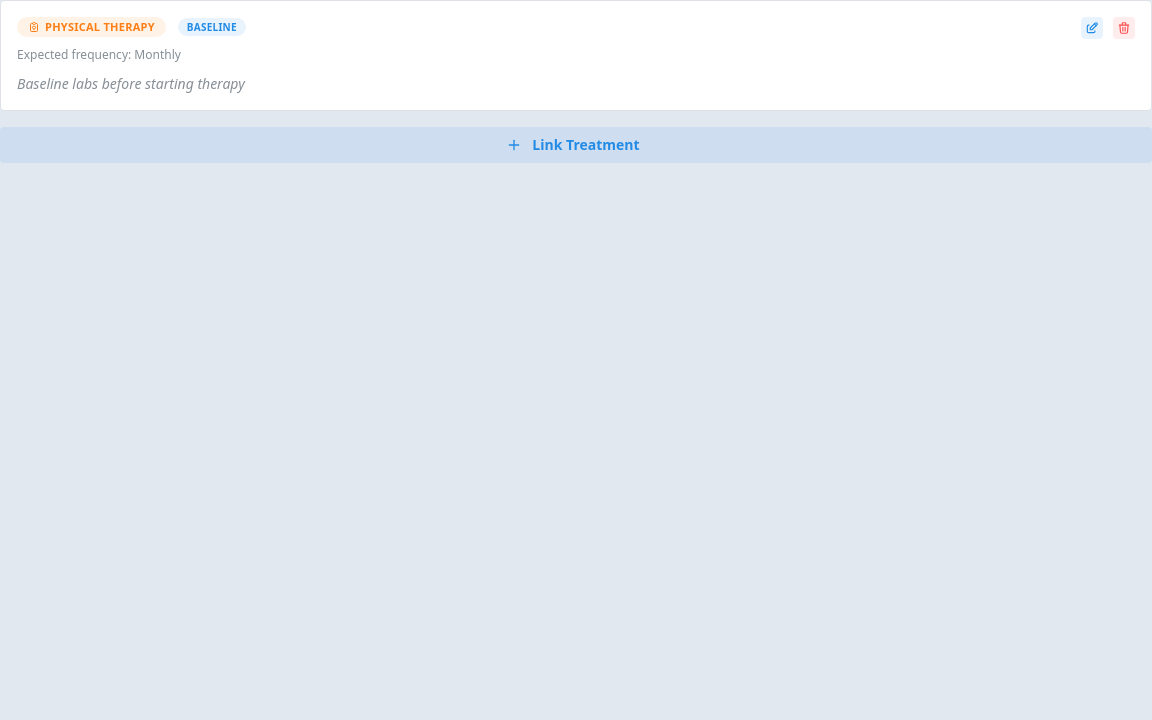
Test: LabResultTreatmentRelationships Component › Modal Functionality › should open modal when Add button is clicked
This screenshot has width=1152, height=720.
Click the button "Link Treatment" at (576, 145), box [0,127,1151,163]
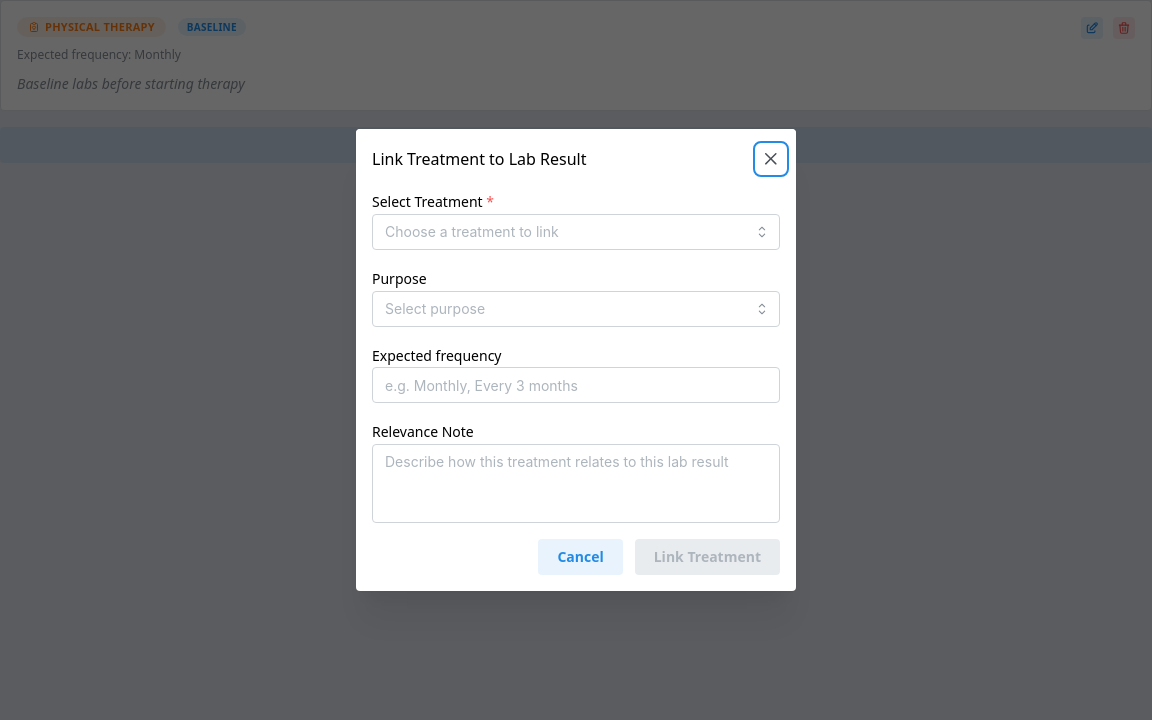
Result: the heading "Link Treatment to Lab Result" is shown at [372,151,586,167]
